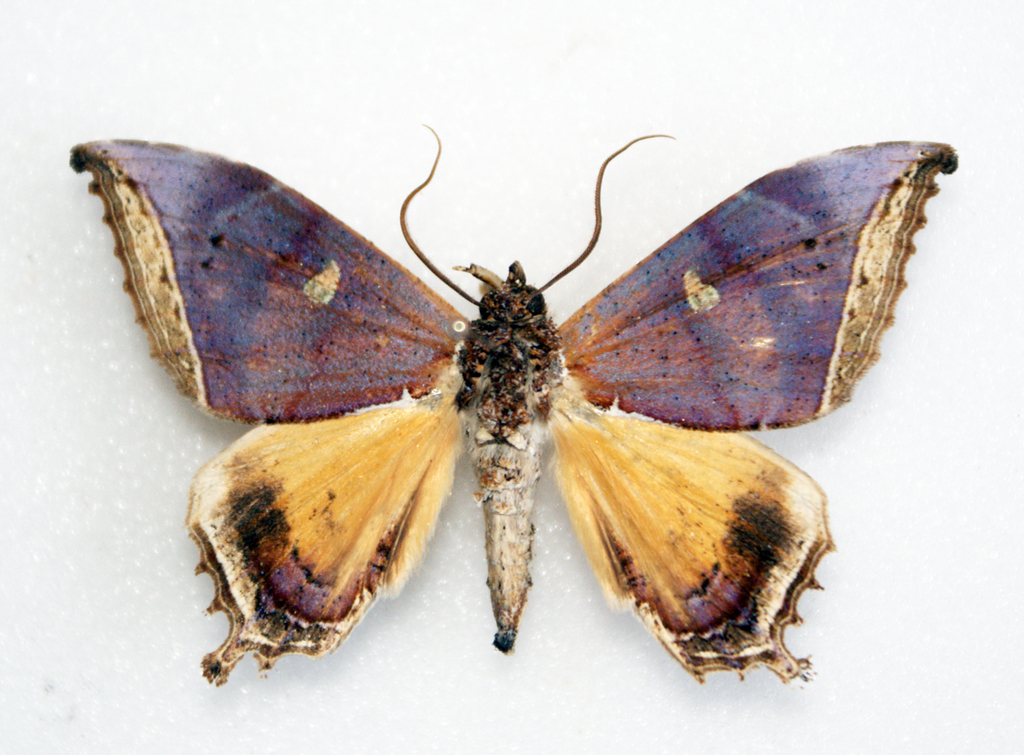Butterfly: (45, 107, 956, 679)
